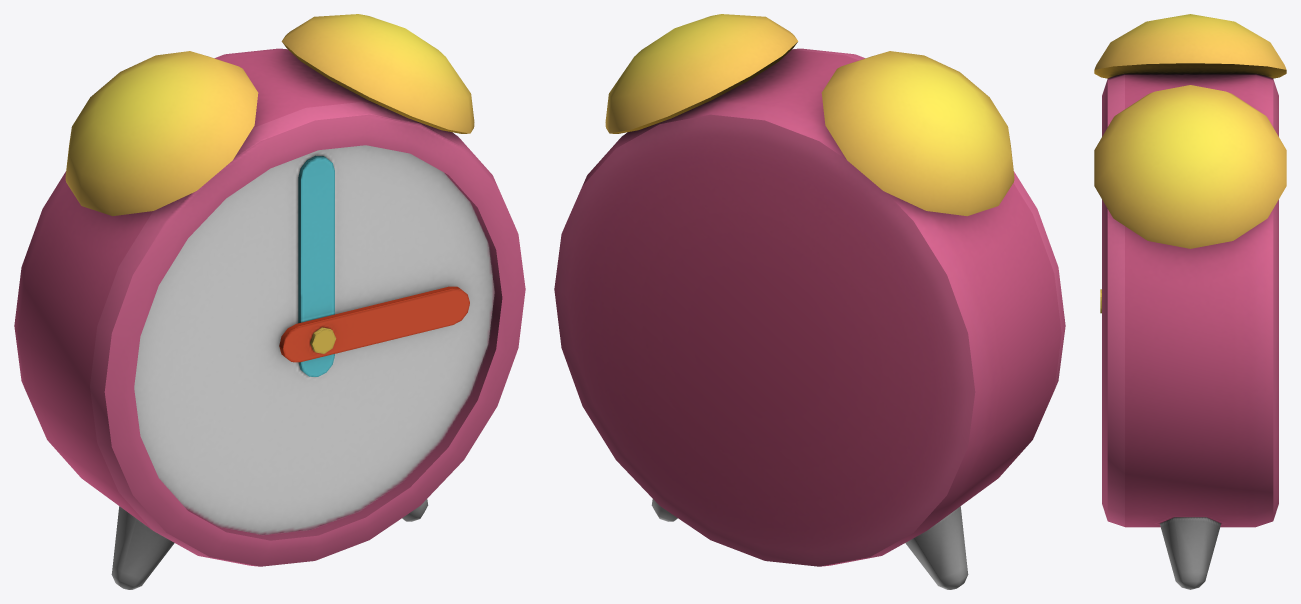
Rendered from Booster_Clock.fbx.
3 views of the same model, side by side, from view 1: azimuth 30°, elevation 25°; view 2: azimuth 150°, elevation 25°; view 3: azimuth 270°, elevation 25° (orthographic). The views are drawn at different scales.
Parts seen in each view (by area): view 1: Booster_Clock; view 2: Booster_Clock; view 3: Booster_Clock.
Boxes of the visible parts, <box> form: Booster_Clock: <box>14,14,525,589</box>; Booster_Clock: <box>554,14,1065,589</box>; Booster_Clock: <box>1094,14,1286,589</box>.
Bounding box in the file's own units: 196 × 220 × 82.39.
